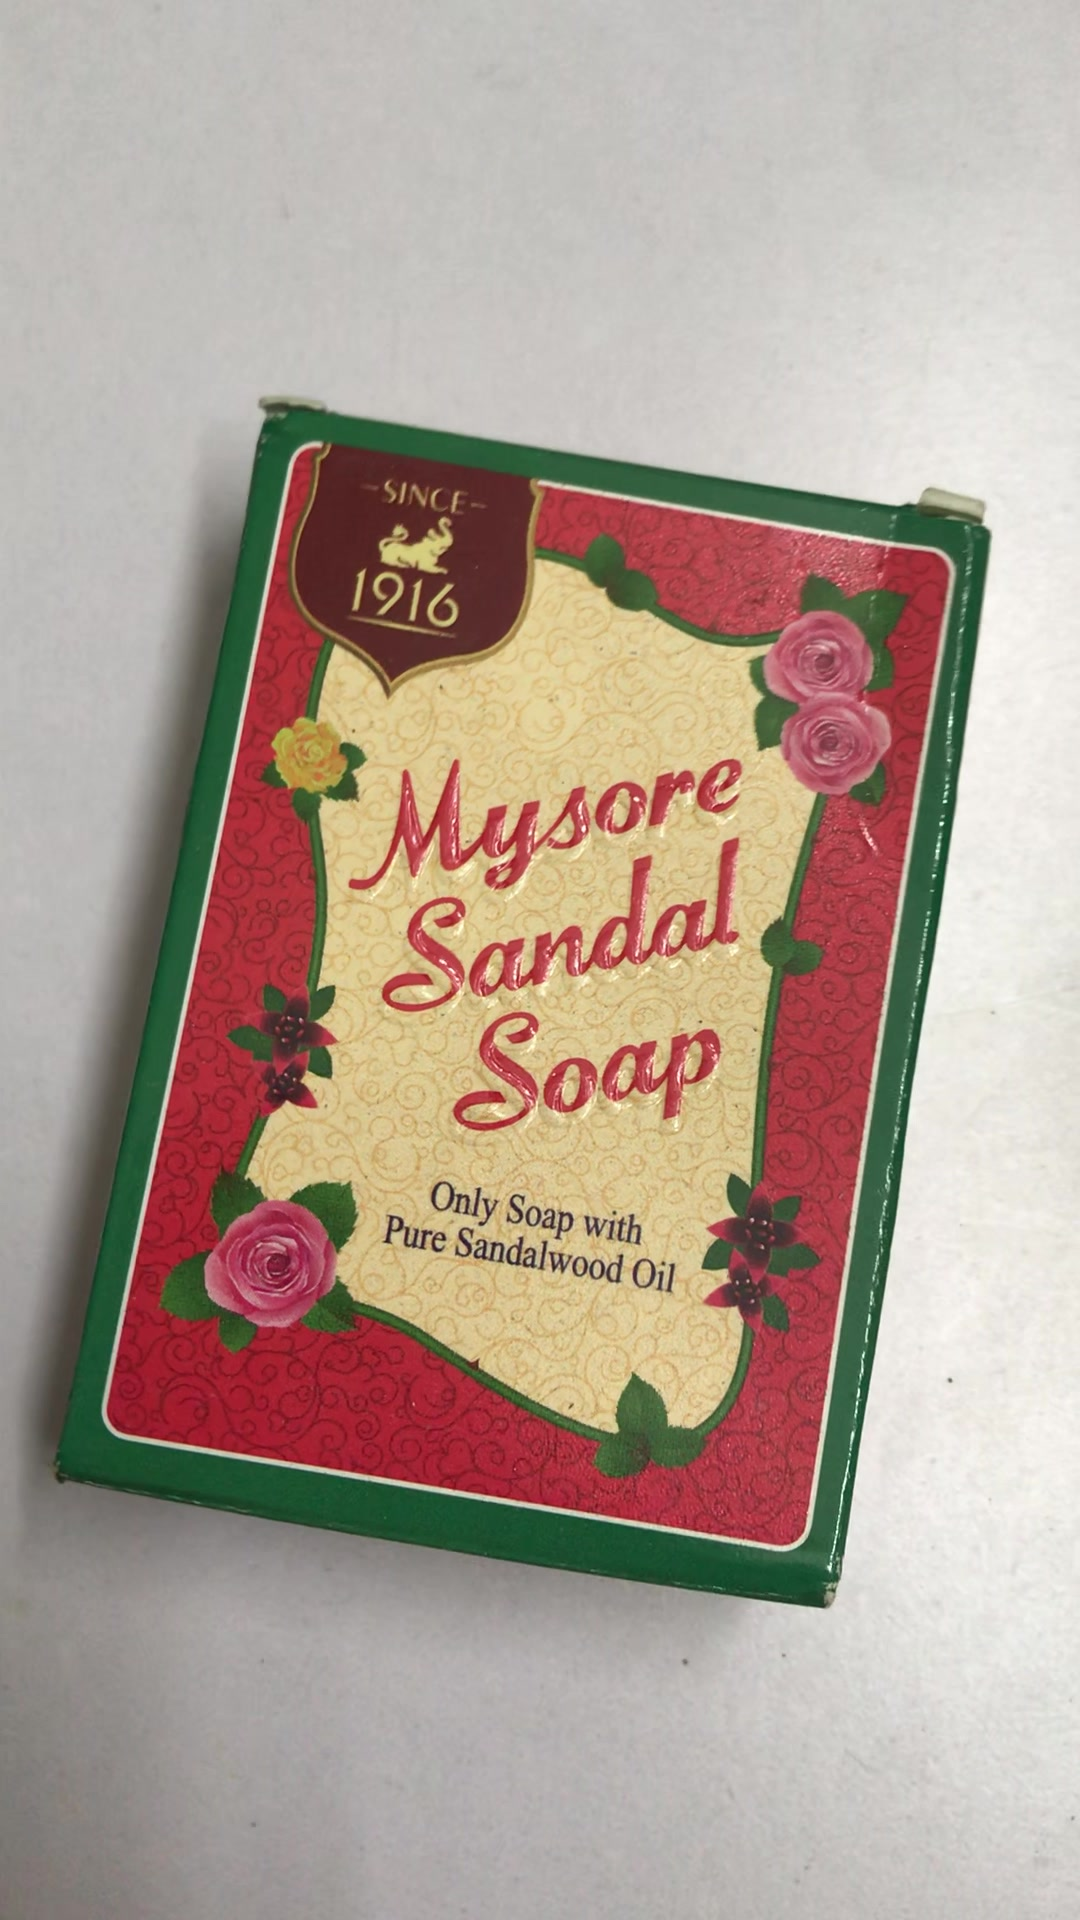mysore sandal soap: (51, 406, 988, 1604)
